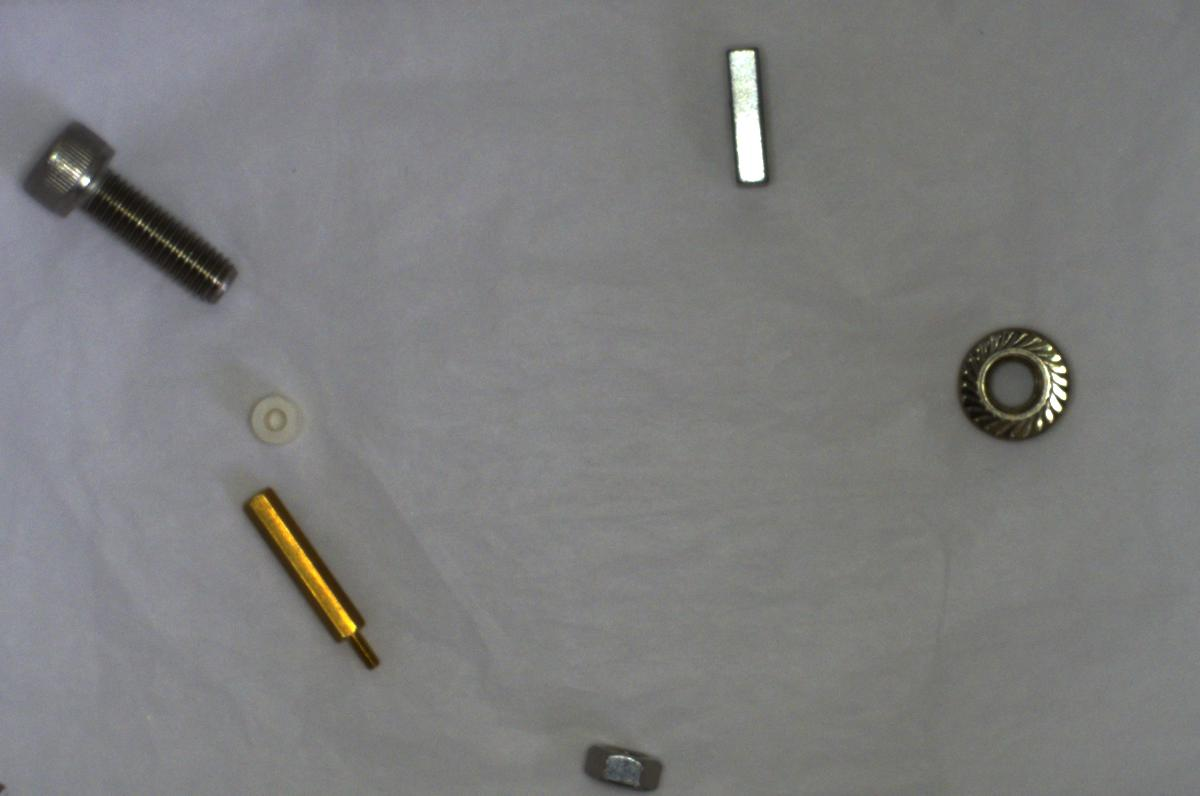Flange nut: (945, 320, 1081, 446)
Hexagon nut: (572, 732, 673, 795)
Hexagon pillar: (239, 481, 390, 679)
Hexagon screw: (21, 116, 251, 303)
Plastic cushion pillar: (242, 386, 305, 452)
Rectangular nut: (719, 35, 775, 188)
